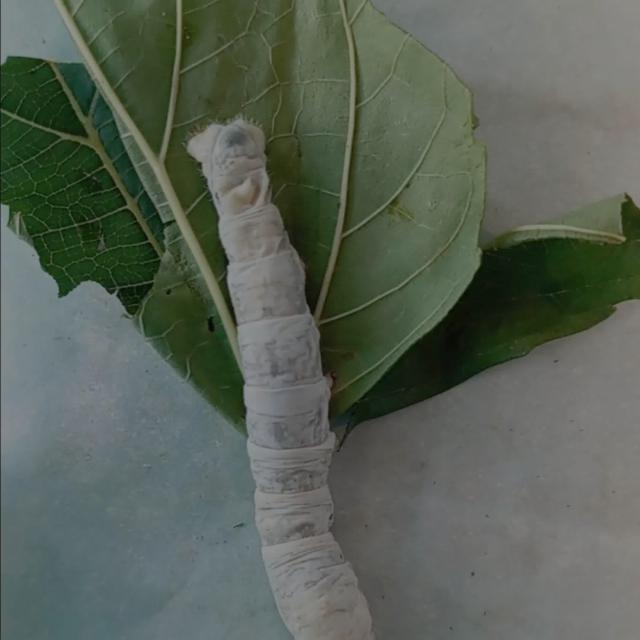Grasserie: (177, 106, 410, 640)
